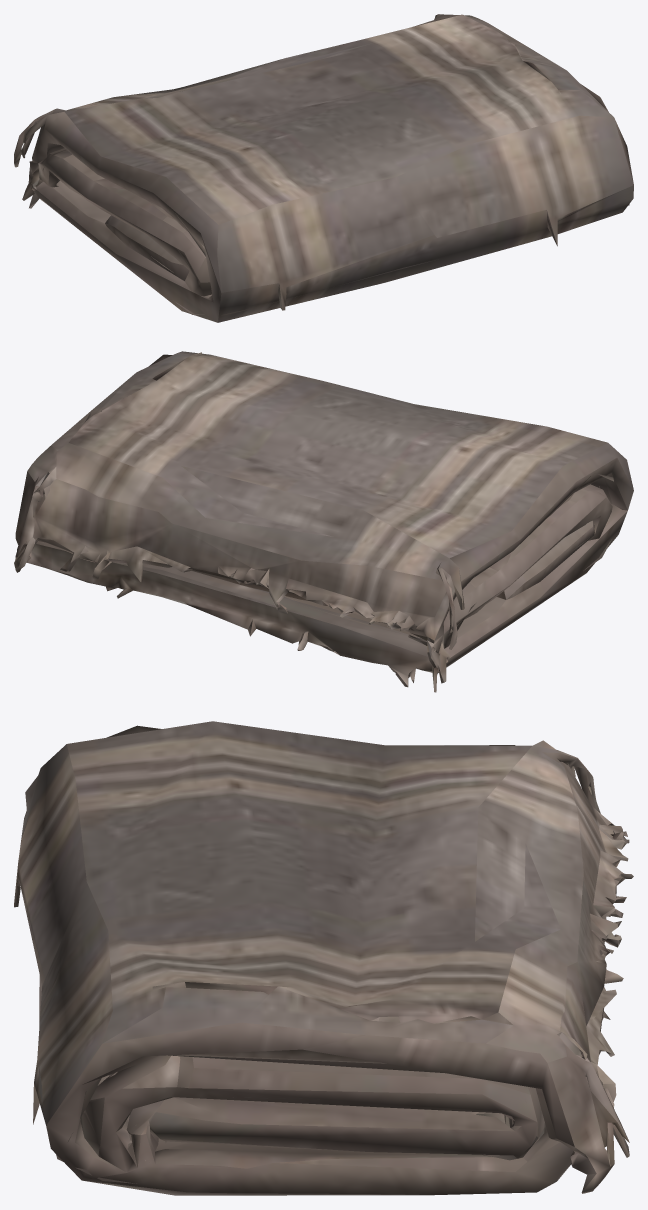
3 views of the same model, one above another, from view 1: azimuth 30°, elevation 25°; view 2: azimuth 150°, elevation 25°; view 3: azimuth 270°, elevation 25° (orthographic). The views are drawn at different scales.
Visible parts, largest first — view 1: geometry_0; view 2: geometry_0; view 3: geometry_0.
Part boxes in pixels (x1,y1,x2,y2): geometry_0: [14, 14, 633, 322]; geometry_0: [14, 351, 633, 692]; geometry_0: [14, 721, 633, 1195].
Size of the model in its own units: 0.596 by 0.1751 by 0.4814.
1 material, 1 textured.
